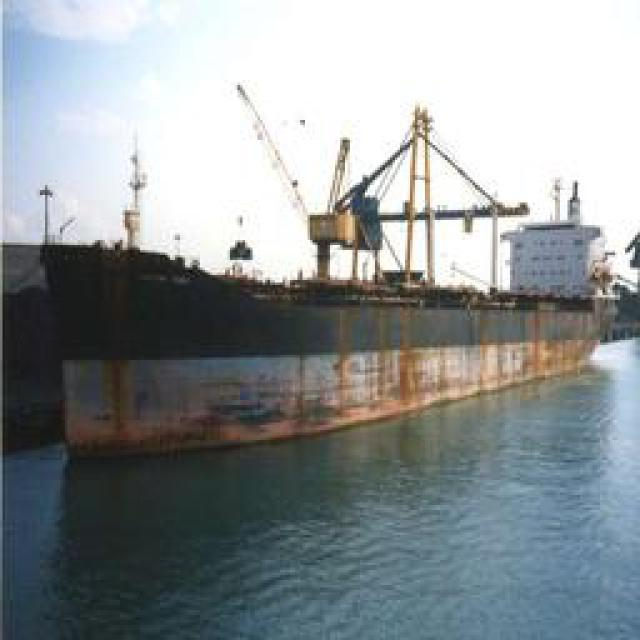Ship: (22, 86, 619, 469)
